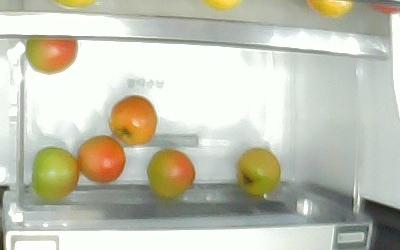tomato: (31, 147, 80, 200), (108, 96, 158, 146), (147, 149, 196, 198), (77, 135, 126, 184), (237, 148, 281, 196), (26, 37, 78, 75)
